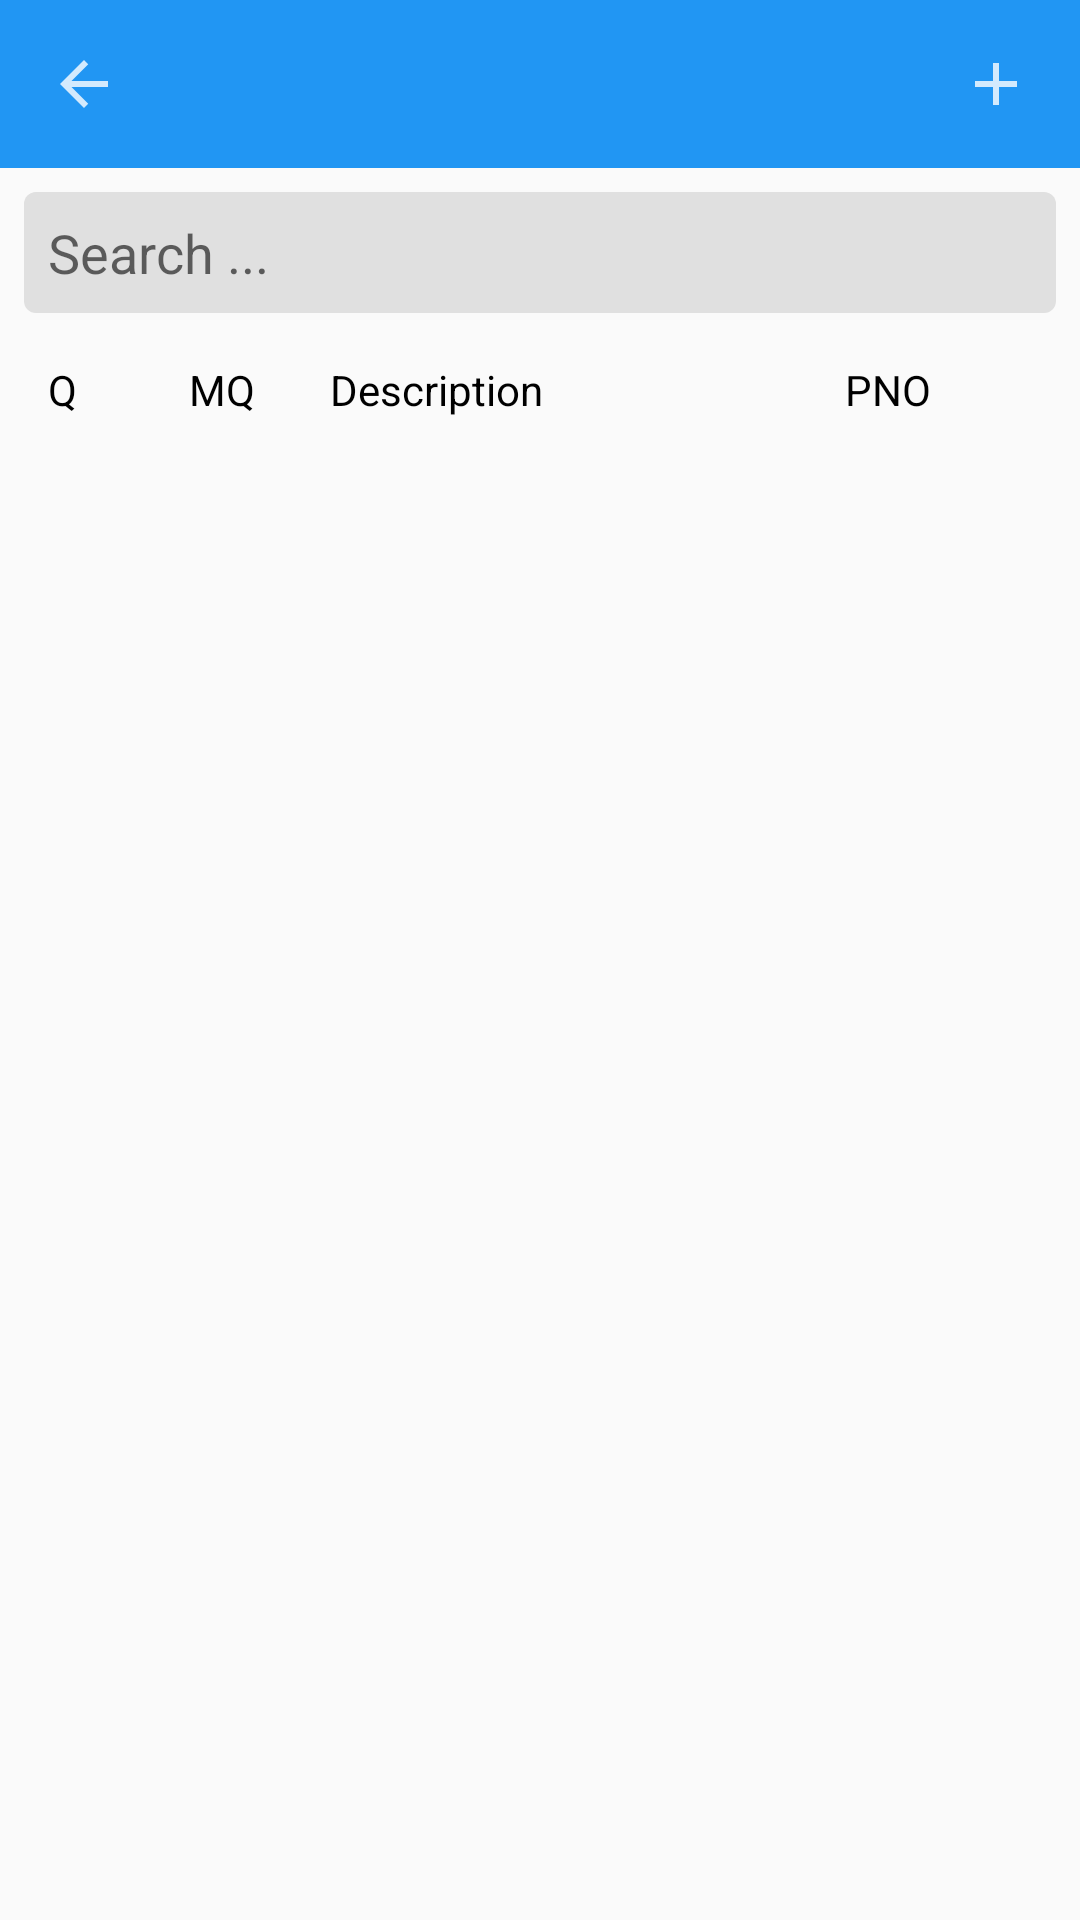

Where to tap for icons on this 1080w x 1920h app screen, as (x=x, y=y):
add: (x=996, y=84)
back: (x=84, y=84)
